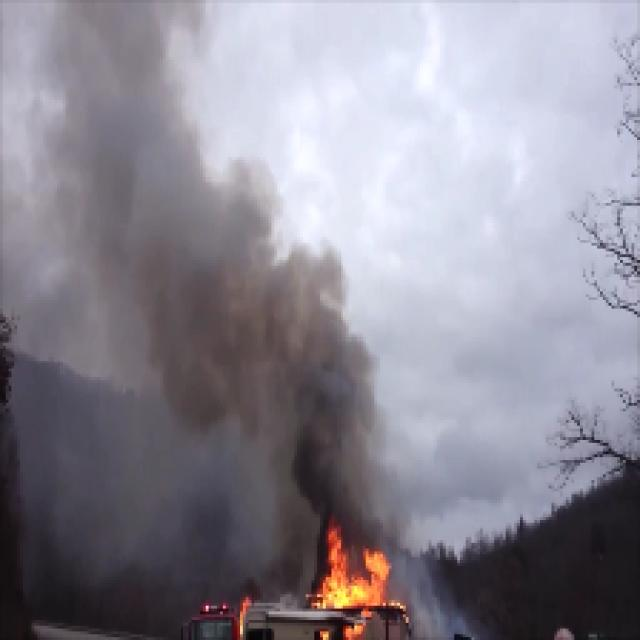fire: (312, 526, 392, 636)
smoke: (3, 1, 244, 576), (246, 242, 394, 514)
